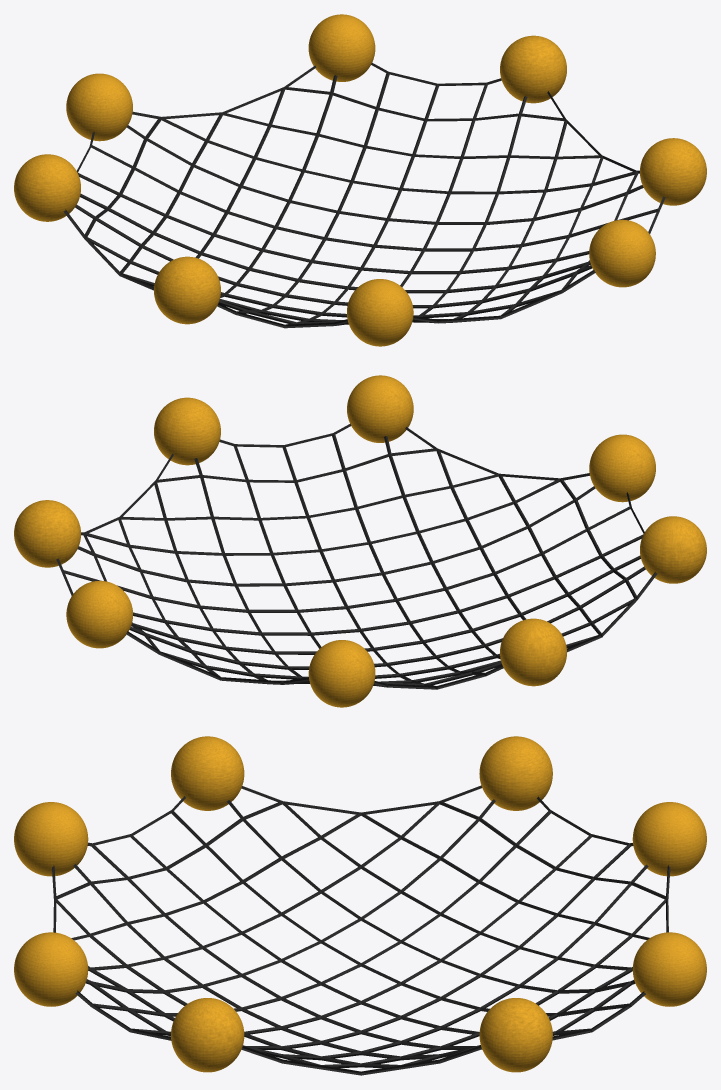
Rendered from 8Ball_Net.fbx.
3 renders of one model, top to bottom at view 1: azimuth 30°, elevation 25°; view 2: azimuth 150°, elevation 25°; view 3: azimuth 270°, elevation 25°, orthographic. The views are drawn at different scales.
Visible parts, largest first — view 1: Plane, Sphere.006, Sphere, Sphere.007, Sphere.003, Sphere.001, Sphere.002, Sphere.005, Sphere.004; view 2: Plane, Sphere, Sphere.006, Sphere.005, Sphere.002, Sphere.004, Sphere.001, Sphere.007, Sphere.003; view 3: Plane, Sphere.003, Sphere.004, Sphere.002, Sphere.001, Sphere.005, Sphere.007, Sphere.006, Sphere.
Part boxes in pixels (x1,y1,x2,y2): Plane: (63, 62, 665, 328); Sphere.006: (154, 256, 220, 324); Sphere: (14, 154, 80, 221); Sphere.007: (640, 138, 706, 205); Sphere.003: (589, 219, 655, 287); Sphere.001: (347, 279, 413, 346); Sphere.002: (66, 73, 132, 141); Sphere.005: (500, 35, 566, 103); Sphere.004: (308, 14, 375, 81); Plane: (56, 423, 657, 689); Sphere: (500, 618, 566, 686); Sphere.006: (640, 516, 706, 583); Sphere.005: (14, 500, 80, 567); Sphere.002: (308, 640, 375, 707); Sphere.004: (66, 580, 132, 648); Sphere.001: (589, 434, 655, 502); Sphere.007: (154, 397, 220, 465); Sphere.003: (347, 375, 413, 442); Plane: (52, 785, 670, 1075); Sphere.003: (14, 932, 88, 1006); Sphere.004: (632, 932, 706, 1006); Sphere.002: (632, 802, 706, 876); Sphere.001: (14, 802, 88, 876); Sphere.005: (479, 998, 552, 1072); Sphere.007: (171, 998, 244, 1072); Sphere.006: (171, 736, 244, 810); Sphere: (479, 736, 552, 810).
Bounding box in the file's own units: 2.24 × 0.4761 × 2.24.
2 materials, 1 textured.
